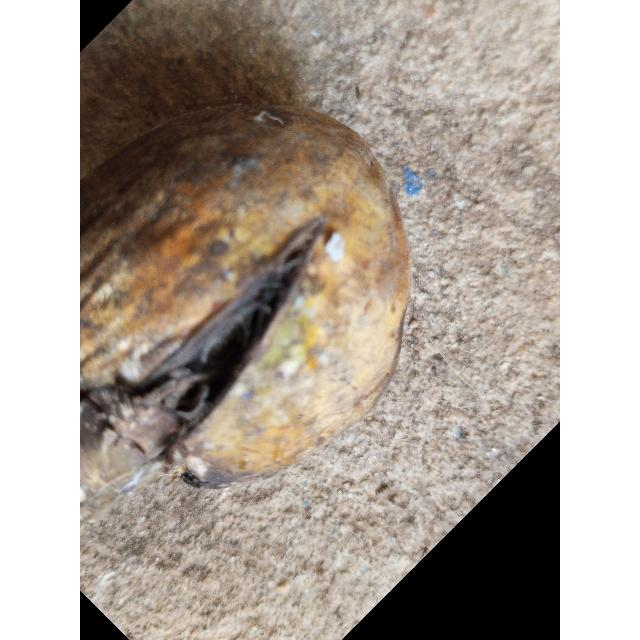damaged: (80, 104, 410, 497)
